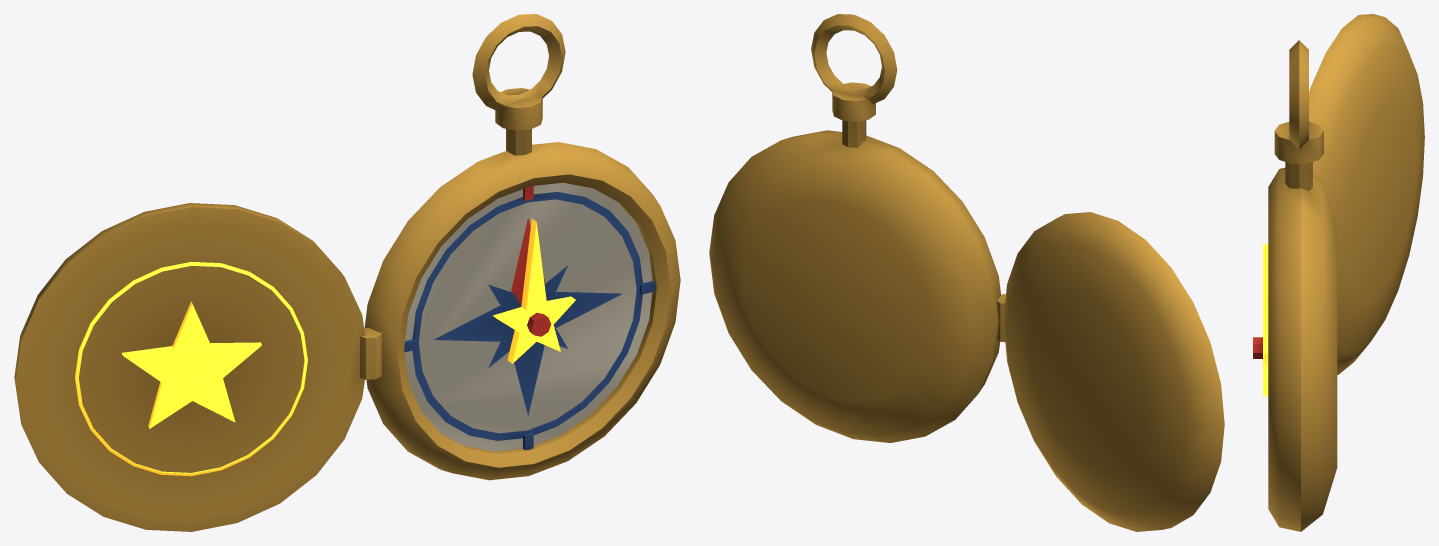
File: star-compass.glb
3 views of the same model, side by side, from view 1: azimuth 30°, elevation 25°; view 2: azimuth 150°, elevation 25°; view 3: azimuth 270°, elevation 25° (orthographic). The views are drawn at different scales.
Parts seen in each view (by area): view 1: Star compass Brass, Star compass Dial, Star compass Ink, Star compass Star gold, Needle, Star compass Red enamel; view 2: Star compass Brass; view 3: Star compass Brass, Needle.
Part boxes in pixels (x1,y1,x2,y2): Star compass Brass: (14, 14, 680, 531); Star compass Dial: (404, 182, 652, 451); Star compass Ink: (404, 192, 655, 450); Star compass Star gold: (75, 261, 307, 476); Needle: (492, 218, 575, 363); Star compass Red enamel: (511, 186, 545, 305); Star compass Brass: (709, 14, 1224, 531); Star compass Brass: (1268, 14, 1424, 531); Needle: (1253, 244, 1268, 396).
Size of the model in its own units: 0.1982 by 0.1428 by 0.0473.
